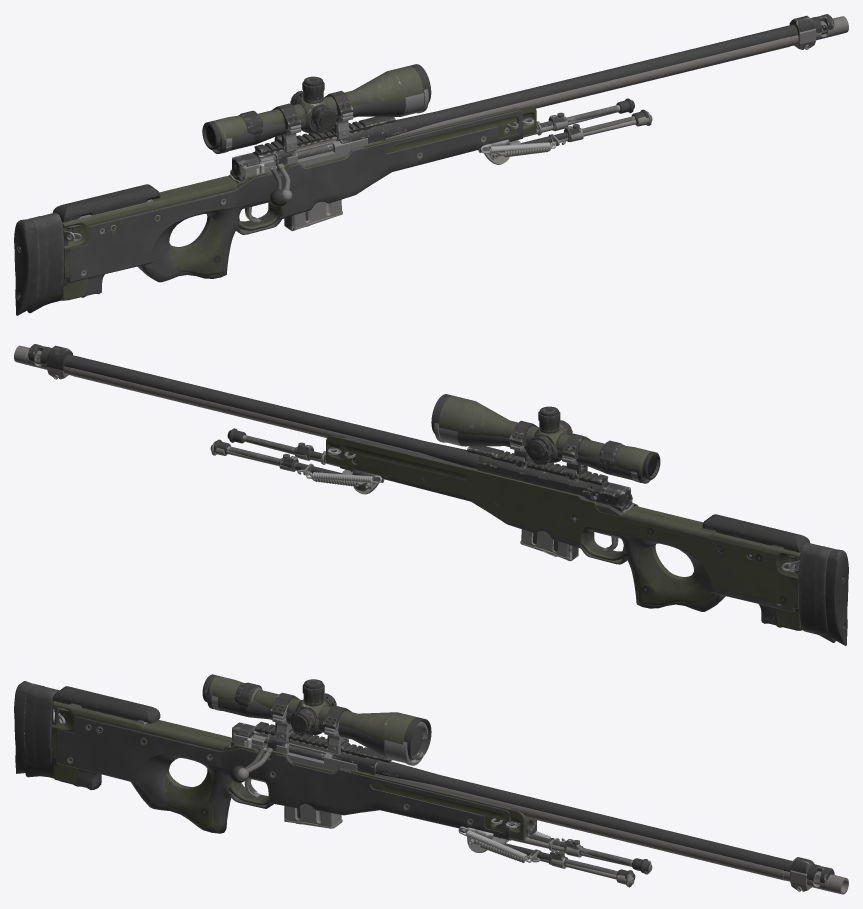
File: awp.glb
3 views of the same model, one above another, from view 1: azimuth 30°, elevation 25°; view 2: azimuth 150°, elevation 25°; view 3: azimuth 330°, elevation 25° (orthographic).
Parts seen in each view (by area): view 1: weapons/models/awp/weapon_snip_awp.vmdl_c.body_hd, weapons/models/awp/weapon_snip_awp.vmdl_c.body_legacy; view 2: weapons/models/awp/weapon_snip_awp.vmdl_c.body_hd, weapons/models/awp/weapon_snip_awp.vmdl_c.body_legacy; view 3: weapons/models/awp/weapon_snip_awp.vmdl_c.body_legacy, weapons/models/awp/weapon_snip_awp.vmdl_c.body_hd.
Boxes of the visible parts, bbox=[...] form: weapons/models/awp/weapon_snip_awp.vmdl_c.body_hd: bbox=[14, 14, 834, 315]; weapons/models/awp/weapon_snip_awp.vmdl_c.body_legacy: bbox=[27, 16, 848, 313]; weapons/models/awp/weapon_snip_awp.vmdl_c.body_hd: bbox=[28, 344, 848, 645]; weapons/models/awp/weapon_snip_awp.vmdl_c.body_legacy: bbox=[14, 345, 835, 642]; weapons/models/awp/weapon_snip_awp.vmdl_c.body_legacy: bbox=[24, 692, 848, 894]; weapons/models/awp/weapon_snip_awp.vmdl_c.body_hd: bbox=[14, 674, 834, 884].
Size of the model in its own units: 54.58 by 10.8 by 4.55.
Materials: 3 (3 with a texture image).
